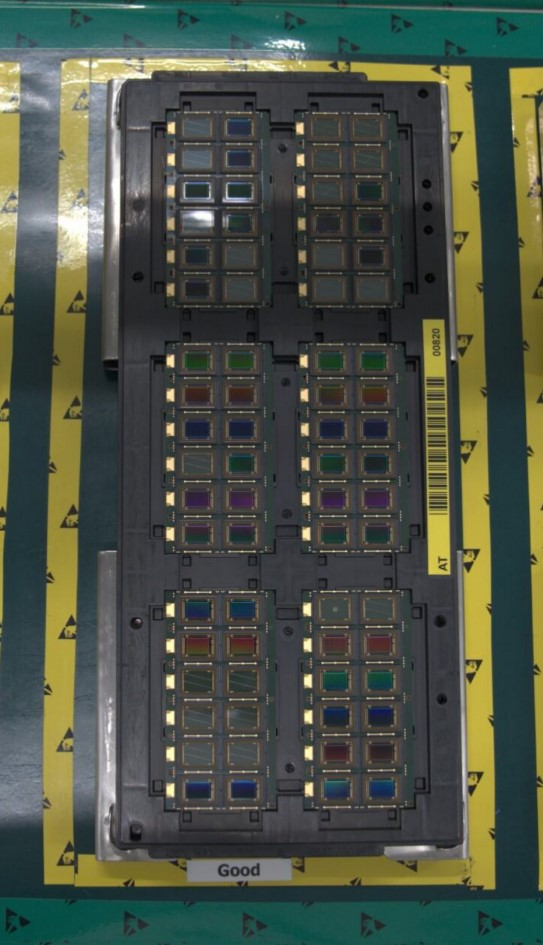Bad_mark_from_BMS_mold: (223, 664, 262, 694), (178, 738, 217, 768), (223, 738, 262, 768), (359, 592, 399, 621), (178, 448, 216, 477), (223, 702, 261, 731), (180, 701, 216, 731), (222, 274, 258, 303), (180, 666, 216, 695), (348, 113, 385, 141), (306, 144, 344, 171), (178, 145, 216, 172), (221, 241, 258, 268), (178, 113, 216, 139), (307, 113, 343, 140), (308, 176, 344, 203), (350, 145, 386, 171)
Bad_mark_from_Maker: (314, 593, 354, 624)
